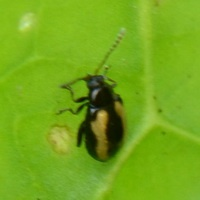insect: (58, 28, 125, 160)
